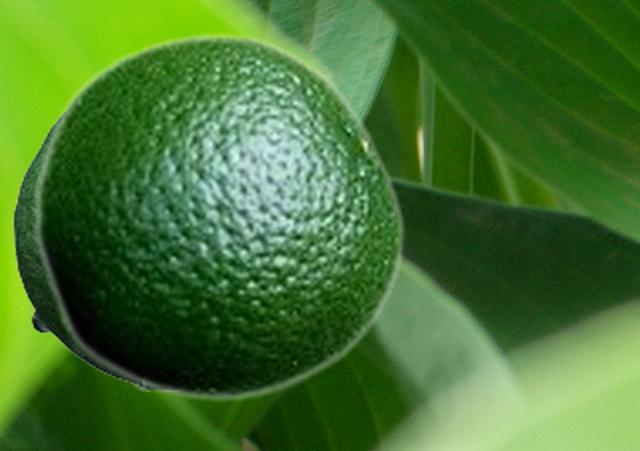calamansi: (31, 31, 406, 403), (12, 114, 147, 390)
